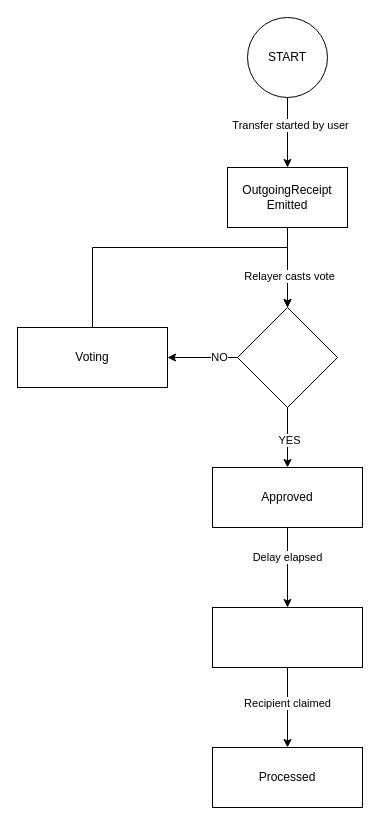
The diagram is 380 pixels wide and 825 high, and some of its shapes have lost their labels. The shapes that lost their labels are listed below. From the top down, each one's box as (x1, y1, x2, y2) in pixels, then its label:
(236, 306, 338, 408): Vote threshold reached?
(212, 606, 362, 668): Ready
